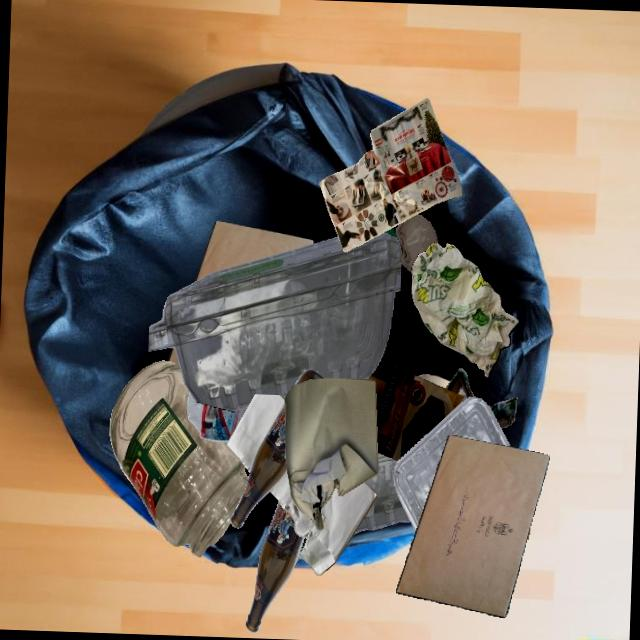cardboard: (366, 360, 463, 461), (445, 368, 474, 398), (490, 397, 517, 428)
glass: (109, 360, 248, 557), (245, 501, 304, 633), (230, 401, 287, 528), (395, 215, 438, 271)
paper: (396, 435, 549, 617), (319, 97, 461, 251), (410, 242, 518, 378), (285, 377, 377, 530), (269, 470, 377, 575), (194, 220, 313, 282), (227, 394, 285, 473)
plastic: (148, 232, 402, 411), (394, 396, 510, 531), (400, 395, 473, 502), (353, 452, 410, 534), (187, 390, 248, 441), (382, 227, 400, 248), (526, 528, 530, 540)
trash: (416, 373, 450, 388)
